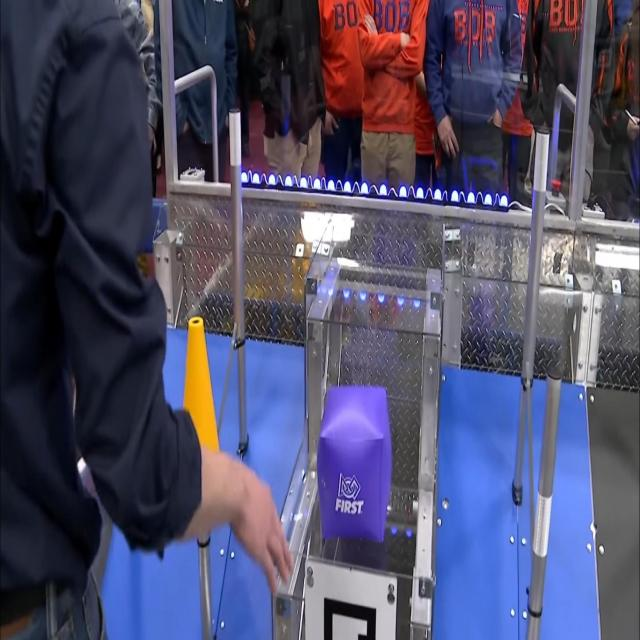frc_cone: (180, 315, 237, 517)
frc_cube: (318, 383, 392, 542)
